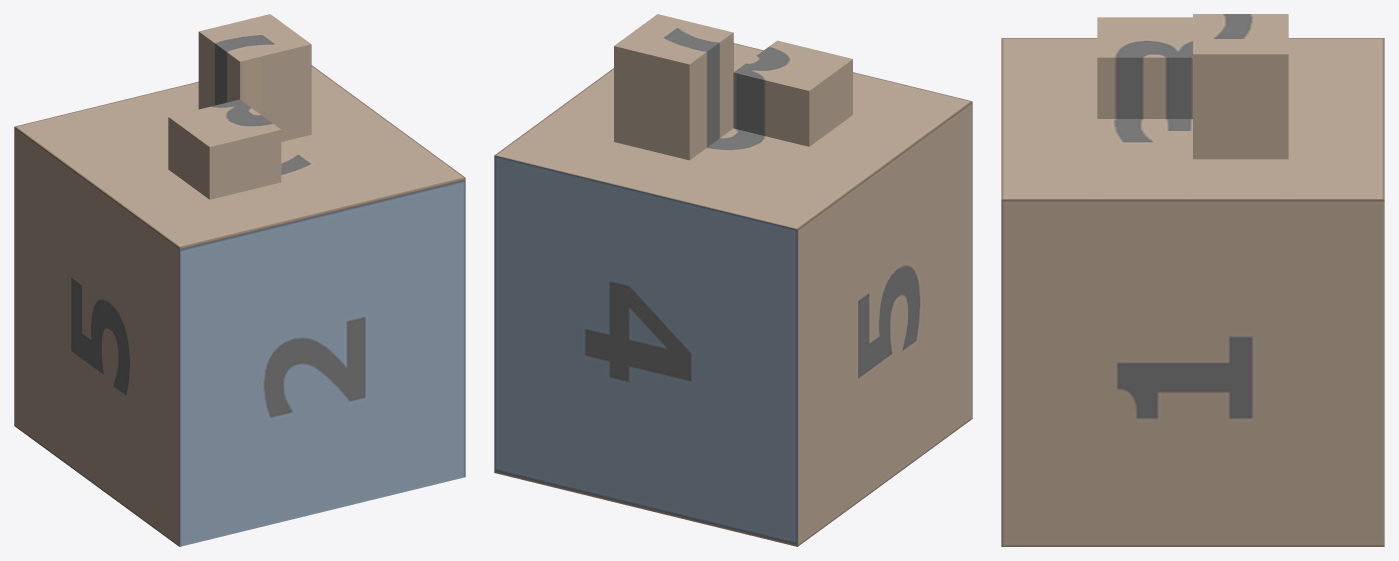
The picture shows the model from 3 angles, left to right: view 1: azimuth 30°, elevation 25°; view 2: azimuth 150°, elevation 25°; view 3: azimuth 270°, elevation 25°; orthographic projection. The views are drawn at different scales.
Parts seen in each view (by area): view 1: Cube; view 2: Cube; view 3: Cube.
Part boxes in pixels (box(x1,y1,x2,y2)): Cube: box(14, 14, 465, 546); Cube: box(494, 14, 972, 546); Cube: box(1001, 14, 1384, 546).
Bounding box in the file's own units: 2 × 2.6 × 2.
